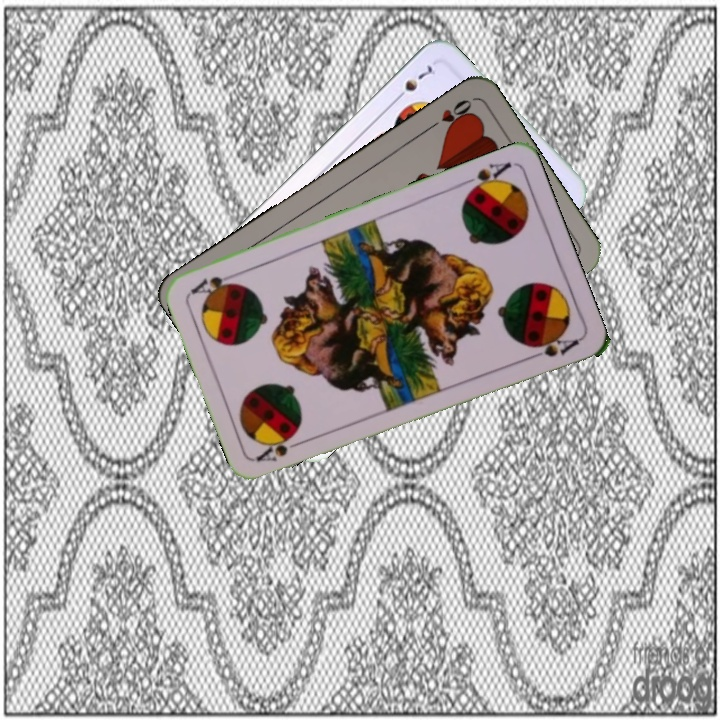HO: (423, 95, 475, 134)
S7: (390, 61, 439, 104)
SA: (457, 158, 514, 198), (252, 435, 310, 465)
